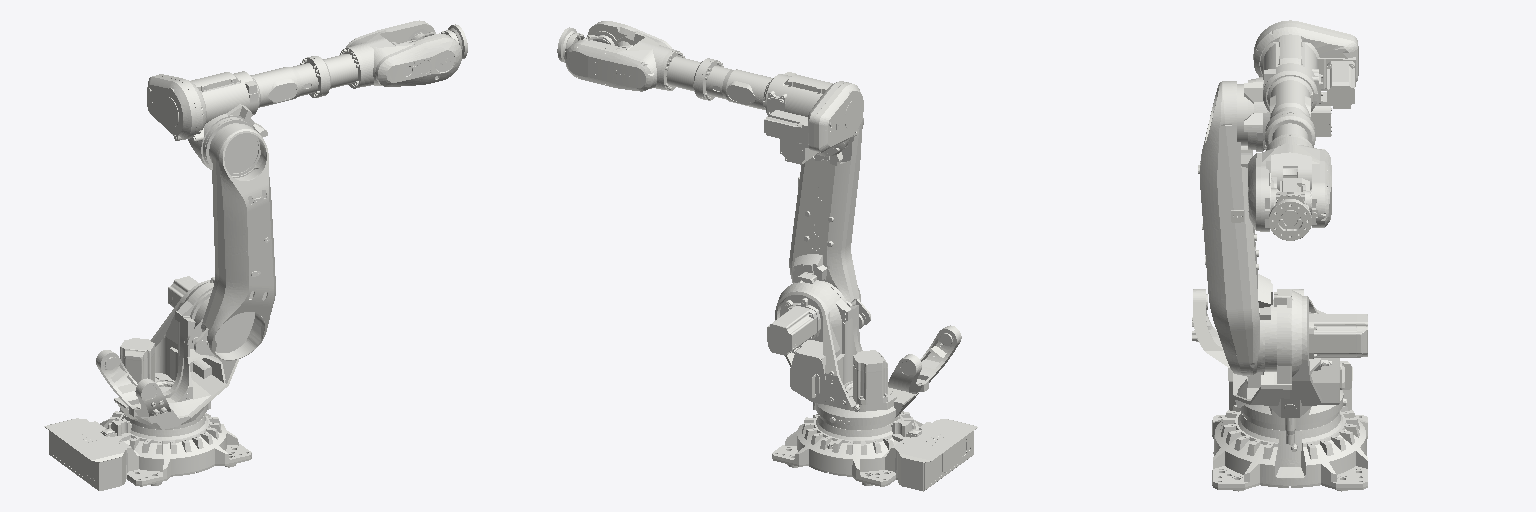
robot.urdf — abb_irb6700_155_285:
<?xml version="1.0" ?>
<!-- =================================================================================== -->
<!-- |    This document was autogenerated by xacro from irb6700_155_285.xacro          | -->
<!-- |    EDITING THIS FILE BY HAND IS NOT RECOMMENDED                                 | -->
<!-- =================================================================================== -->
<robot name="abb_irb6700_155_285">
  <transform tf_rb_ub="0.0 0.0 0.0 0.0 0.0 0.0 1.0" tf_rf_uf="0.0 0.0 0.0 0.0 0.0 0.0 1.0">
  </transform>
  <constraint coeff="0.0 0.0 0.0 1.0 0.0 0.0" lower_bound="0.0" upper_bound="0.0"/>
  <constraint coeff="0.0 1.0 1.0 0.0 1.0 0.0" lower_bound="1.5707963267948966" upper_bound="1.5707963267948966"/>
  <!-- Conversion were obtained from http://www.e-paint.co.uk/Lab_values.asp
       unless otherwise stated. -->
  <!-- link list -->
  <link name="base_link">
    <visual>
      <origin rpy="0 0 0" xyz="0 0 0"/>
      <geometry>
        <mesh filename="package://abb_irb6700_support/meshes/irb6700_155_285/visual/base_link.stl"/>
      </geometry>
      <material name="">
        <color rgba="0.9254902 0.9254902 0.9058824 1"/>
      </material>
    </visual>
    <collision>
      <origin rpy="0 0 0" xyz="0 0 0"/>
      <geometry>
        <mesh filename="package://abb_irb6700_support/meshes/irb6700_155_285/collision/base_link.stl"/>
      </geometry>
      <material name="">
        <color rgba="1 1 0 1"/>
      </material>
    </collision>
  </link>
  <link name="link_1">
    <visual>
      <origin rpy="0 0 0" xyz="0 0 -0.78"/>
      <geometry>
        <mesh filename="package://abb_irb6700_support/meshes/irb6700_155_285/visual/link_1.stl"/>
      </geometry>
      <material name="">
        <color rgba="0.9254902 0.9254902 0.9058824 1"/>
      </material>
    </visual>
    <collision>
      <origin rpy="0 0 0" xyz="0 0 -0.78"/>
      <geometry>
        <mesh filename="package://abb_irb6700_support/meshes/irb6700_155_285/collision/link_1.stl"/>
      </geometry>
      <material name="">
        <color rgba="1 1 0 1"/>
      </material>
    </collision>
  </link>
  <link name="link_2">
    <visual>
      <origin rpy="0 0 0" xyz="-0.32 0 -0.78"/>
      <geometry>
        <mesh filename="package://abb_irb6700_support/meshes/irb6700_155_285/visual/link_2.stl"/>
      </geometry>
      <material name="">
        <color rgba="0.9254902 0.9254902 0.9058824 1"/>
      </material>
    </visual>
    <collision>
      <origin rpy="0 0 0" xyz="-0.32 0 -0.78"/>
      <geometry>
        <mesh filename="package://abb_irb6700_support/meshes/irb6700_155_285/collision/link_2.stl"/>
      </geometry>
      <material name="">
        <color rgba="1 1 0 1"/>
      </material>
    </collision>
  </link>
  <link name="link_3">
    <visual>
      <origin rpy="0 0 0" xyz="-0.32 0 -1.905"/>
      <geometry>
        <mesh filename="package://abb_irb6700_support/meshes/irb6700_155_285/visual/link_3.stl"/>
      </geometry>
      <material name="">
        <color rgba="0.9254902 0.9254902 0.9058824 1"/>
      </material>
    </visual>
    <collision>
      <origin rpy="0 0 0" xyz="-0.32 0 -1.905"/>
      <geometry>
        <mesh filename="package://abb_irb6700_support/meshes/irb6700_155_285/collision/link_3.stl"/>
      </geometry>
      <material name="">
        <color rgba="1 1 0 1"/>
      </material>
    </collision>
  </link>
  <link name="link_4">
    <visual>
      <origin rpy="0 0 0" xyz="-0.32 0 -2.105"/>
      <geometry>
        <mesh filename="package://abb_irb6700_support/meshes/irb6700_155_285/visual/link_4.stl"/>
      </geometry>
      <material name="">
        <color rgba="0.9254902 0.9254902 0.9058824 1"/>
      </material>
    </visual>
    <collision>
      <origin rpy="0 0 0" xyz="-0.32 0 -2.105"/>
      <geometry>
        <mesh filename="package://abb_irb6700_support/meshes/irb6700_155_285/collision/link_4.stl"/>
      </geometry>
      <material name="">
        <color rgba="1 1 0 1"/>
      </material>
    </collision>
  </link>
  <link name="link_5">
    <visual>
      <origin rpy="0 0 0" xyz="-1.7125 0 -2.105"/>
      <geometry>
        <mesh filename="package://abb_irb6700_support/meshes/irb6700_155_285/visual/link_5.stl"/>
      </geometry>
      <material name="">
        <color rgba="0.9254902 0.9254902 0.9058824 1"/>
      </material>
    </visual>
    <collision>
      <origin rpy="0 0 0" xyz="-1.7125 0 -2.105"/>
      <geometry>
        <mesh filename="package://abb_irb6700_support/meshes/irb6700_155_285/collision/link_5.stl"/>
      </geometry>
      <material name="">
        <color rgba="1 1 0 1"/>
      </material>
    </collision>
  </link>
  <link name="link_6">
    <visual>
      <origin rpy="0 -1.5707963267948966 0" xyz="2.105 0 -1.9125"/>
      <geometry>
        <mesh filename="package://abb_irb6700_support/meshes/irb6700_155_285/visual/link_6.stl"/>
      </geometry>
      <material name="">
        <color rgba="0.9254902 0.9254902 0.9058824 1"/>
      </material>
    </visual>
    <collision>
      <origin rpy="0 -1.5707963267948966 0" xyz="2.105 0 -1.9125"/>
      <geometry>
        <mesh filename="package://abb_irb6700_support/meshes/irb6700_155_285/collision/link_6.stl"/>
      </geometry>
      <material name="">
        <color rgba="1 1 0 1"/>
      </material>
    </collision>
  </link>
  <joint name="joint1" type="revolute">
    <origin rpy="0 0 0" xyz="0 0 0.78"/>
    <parent link="base_link"/>
    <child link="link_1"/>
    <axis xyz="0 0 1"/>
    <limit effort="0" lower="-2.9670597283903604" upper="2.9670597283903604" velocity="1.9198621771937625"/>
  </joint>
  <joint name="joint2" type="revolute">
    <origin rpy="0 0 0" xyz="0.32 0 0"/>
    <parent link="link_1"/>
    <child link="link_2"/>
    <axis xyz="0 1 0"/>
    <limit effort="0" lower="-1.1344640137963142" upper="1.4835298641951802" velocity="1.9198621771937625"/>
  </joint>
  <joint name="joint3" type="revolute">
    <origin rpy="0 0 0" xyz="0 0 1.125"/>
    <parent link="link_2"/>
    <child link="link_3"/>
    <axis xyz="0 1 0"/>
    <limit effort="0" lower="-3.141592653589793" upper="1.2042771838760873" velocity="1.9198621771937625"/>
  </joint>
  <joint name="joint4" type="revolute">
    <origin rpy="0 0 0" xyz="0 0 0.2"/>
    <parent link="link_3"/>
    <child link="link_4"/>
    <axis xyz="1 0 0"/>
    <limit effort="0" lower="-5.235987755982989" upper="5.235987755982989" velocity="3.3161255787892263"/>
  </joint>
  <joint name="joint5" type="revolute">
    <origin rpy="0 0 0" xyz="1.3925 0 0"/>
    <parent link="link_4"/>
    <child link="link_5"/>
    <axis xyz="0 1 0"/>
    <limit effort="0" lower="-2.2689280275926285" upper="2.2689280275926285" velocity="2.6179938779914944"/>
  </joint>
  <joint name="joint6" type="revolute">
    <origin rpy="0 1.5707963267948966 0" xyz="0.2 0 0"/>
    <parent link="link_5"/>
    <child link="link_6"/>
    <axis xyz="0 0 1"/>
    <limit effort="0" lower="-6.283185307179586" upper="6.283185307179586" velocity="3.6651914291880923"/>
  </joint>
</robot>

--- What the picture shows (computed from the rendered views, not written in the file) ---
Views: 3 orthographic renders of the robot side by side, from view 1: azimuth 30°, elevation 25°; view 2: azimuth 150°, elevation 25°; view 3: azimuth 270°, elevation 25°.
Model abb_irb6700_155_285 with 7 links and 6 joints (6 revolute), rooted at base_link, posed every joint at zero.
Visible links, largest first — view 1: link_2, link_1, base_link, link_4, link_3; view 2: link_1, base_link, link_4, link_2, link_3; view 3: link_1, link_2, base_link, link_3, link_4, link_6, link_5.
Link boxes in pixels (box(x1,y1,x2,y2)): link_2: box(187, 124, 275, 360); link_1: box(96, 276, 238, 429); base_link: box(44, 408, 251, 490); link_4: box(163, 20, 461, 126); link_3: box(147, 71, 267, 169); link_1: box(767, 272, 961, 425); base_link: box(772, 411, 977, 491); link_4: box(564, 21, 859, 128); link_2: box(789, 117, 870, 328); link_3: box(763, 72, 863, 164); link_1: box(1192, 289, 1367, 444); link_2: box(1198, 81, 1272, 375); base_link: box(1212, 361, 1367, 491); link_3: box(1237, 20, 1358, 151); link_4: box(1248, 76, 1331, 231); link_6: box(1269, 200, 1311, 240); link_5: box(1271, 178, 1309, 209).
Bounding box of the posed robot: 2.54 × 0.8161 × 2.28 m (x, y, z).
7 mesh visuals loaded from 7 distinct referenced files (7 binary STL).